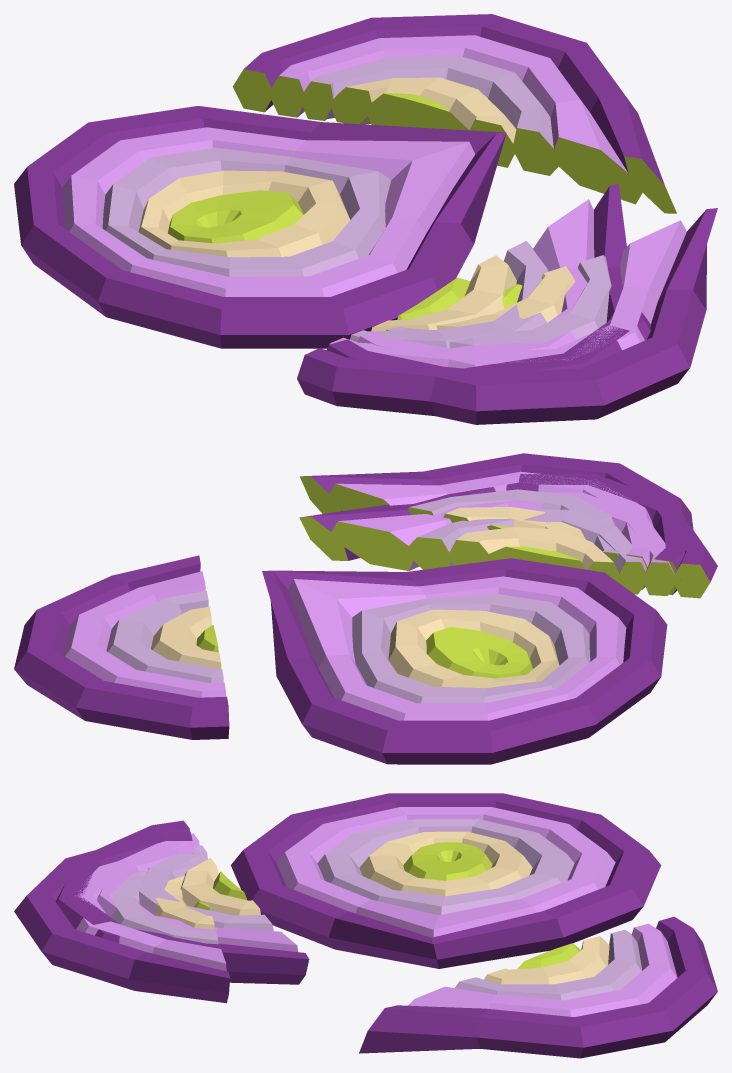
The model's file is Onion.fbx.
The picture shows the model from 3 angles, top to bottom: view 1: azimuth 30°, elevation 25°; view 2: azimuth 150°, elevation 25°; view 3: azimuth 270°, elevation 25°; orthographic projection. The views are drawn at different scales.
Parts seen in each view (by area): view 1: Onion Slice, Onion Slice.003, Onion Slice.002, Onion Slice.001; view 2: Onion Slice, Onion Slice.003, Onion Slice.001, Onion Slice.002; view 3: Onion Slice, Onion Slice.003, Onion Slice.002, Onion Slice.001.
Boxes of the visible parts, box(x1,y1,x2,y2) form: Onion Slice: box(14, 106, 506, 348); Onion Slice.003: box(232, 14, 676, 213); Onion Slice.002: box(326, 208, 717, 424); Onion Slice.001: box(297, 183, 650, 415); Onion Slice: box(262, 558, 667, 764); Onion Slice.003: box(14, 555, 229, 739); Onion Slice.001: box(299, 473, 717, 598); Onion Slice.002: box(299, 453, 693, 594); Onion Slice: box(231, 793, 661, 968); Onion Slice.003: box(359, 916, 717, 1058); Onion Slice.002: box(14, 831, 229, 1003); Onion Slice.001: box(56, 820, 309, 984).
Size of the model in its own units: 168 by 21 by 206.
